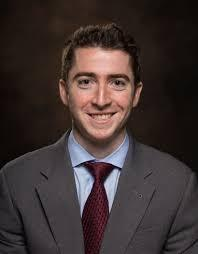No Mask: (41, 24, 176, 192)
